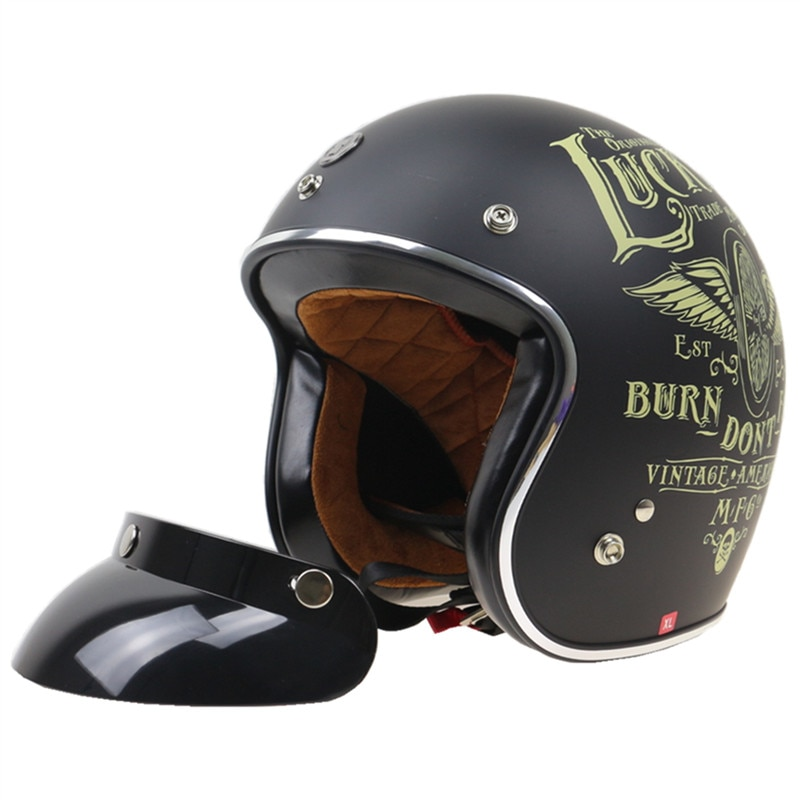with_helmet: (231, 79, 790, 674)
